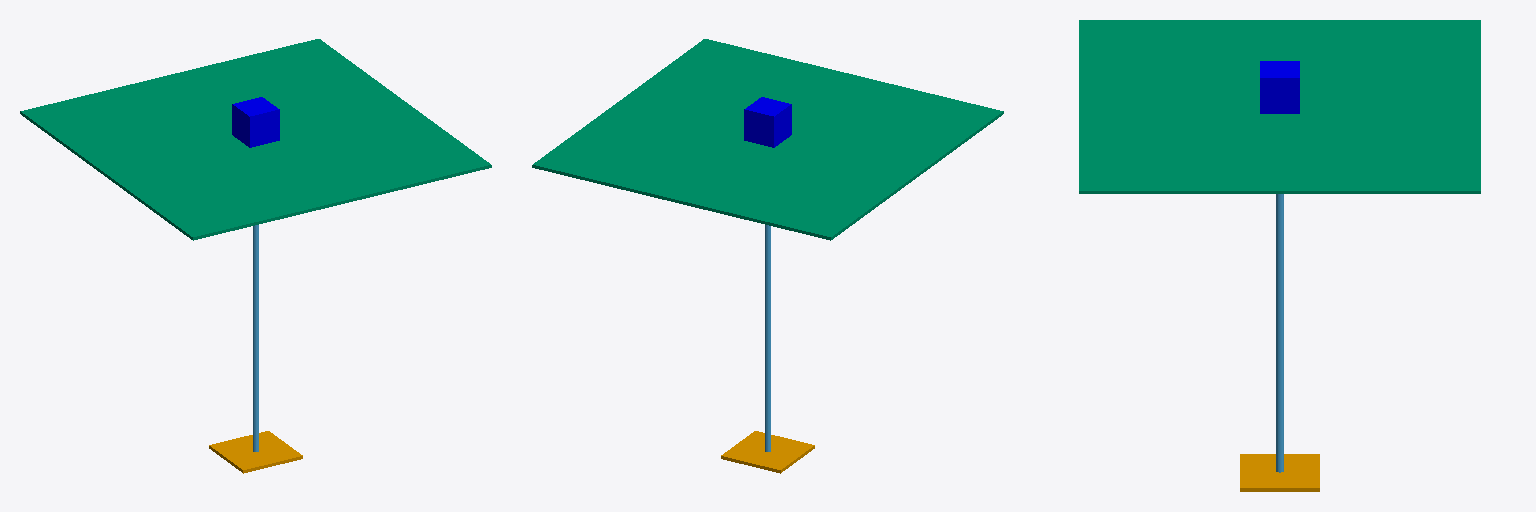
robot.urdf — CartTable:
<?xml version="1.0"?>

<robot xmlns="http://drake.mit.edu"
 xmlns:xsi="http://www.w3.org/2001/XMLSchema-instance"
 xsi:schemaLocation="http://drake.mit.edu ../../doc/drakeURDF.xsd" name="CartTable">
  <material name="blue">
    <color rgba="0 0 1 1" />
  </material>

  <link name="base">
    <inertial>
      <origin xyz="0 0 0" />
      <mass value="1" />
      <inertia ixx="1" iyy="1" izz="1" ixy="0" ixz="0" iyz="0"/>
    </inertial>
    <visual>
      <origin xyz="0 0 0" />
      <geometry>
        <box size=".2 .2 .01" />
      </geometry> 
    </visual>
    <collision>
      <origin xyz="0 0 0" />
      <geometry>
        <box size=".2 .2 .01" />
      </geometry>
    </collision>
  </link>
  <link name="base_part2">
    <!-- no inertia -->
    <visual>
      <origin xyz="0 0 .5" />
      <geometry>
        <cylinder radius=".01" length="1" />
      </geometry>
    </visual>
  </link>
  <joint name="base_weld" type="fixed">
    <parent link="base" />
    <child link="base_part2" />
    <origin xyz="0 0 0" />
  </joint>
  <link name="base_part3">
    <!-- no inertia -->
    <visual>
      <origin xyz="0 0 1" />
      <geometry>
         <box size="1 1 .01" />
      </geometry>
    </visual>
  </link> 
  <joint name="base_weld2" type="fixed">
    <parent link="base_part2" />
    <child link="base_part3" />
    <origin xyz="0 0 0" />
  </joint>


  <link name="cart_x_link" />
  <joint name="cart_x" type="prismatic">
    <parent link="base" />
    <child link="cart_x_link" />
    <axis xyz="1 0 0" />
    <origin xyz="0 0 1.055" />
  </joint>
  <transmission type="SimpleTransmission" name="cart_x_trans">
    <actuator name="cart_xddot" />
    <joint name="cart_x" />
    <mechanicalReduction>.02</mechanicalReduction>
  </transmission>


  <link name="cart">
    <inertial>
      <origin xyz="0 0 0" />
      <mass value="50" />
      <inertia ixx="10" iyy="10" izz="1" ixy="0" ixz="0" iyz="0"/>
      <!-- inertia about COM is zero -->
    </inertial>
    <visual>
      <origin xyz="0 0 0" />
      <geometry>
        <box size=".1 .1 .1" />
      </geometry>
      <material name="blue" />
    </visual>
  </link>
  <joint name="cart_y" type="prismatic">
    <parent link="cart_x_link" />
    <child link="cart" />
    <axis xyz="0 1 0" />
    <origin xyz="0 0 0" />
  </joint>
  <transmission type="SimpleTransmission" name="cart_y_trans">
    <actuator name="cart_yddot" />
    <joint name="cart_y" />
    <mechanicalReduction>.02</mechanicalReduction>
  </transmission>

</robot>

--- Facts derived from the render (not from the file) ---
Views: 3 orthographic renders of the robot side by side, from view 1: azimuth 30°, elevation 25°; view 2: azimuth 150°, elevation 25°; view 3: azimuth 270°, elevation 25°.
Robot: CartTable — 5 links, 4 joints (2 prismatic, 2 fixed); root link base; default pose: all joints at 0.
Links seen in each view (by area): view 1: base_part3, base, cart, base_part2; view 2: base_part3, base, cart, base_part2; view 3: base_part3, base, base_part2, cart.
Link boxes in pixels (x1=…): base_part3: x1=20, y1=39, x2=491, y2=240; base: x1=209, y1=431, x2=302, y2=473; cart: x1=232, y1=97, x2=279, y2=147; base_part2: x1=253, y1=225, x2=258, y2=451; base_part3: x1=532, y1=39, x2=1003, y2=240; base: x1=721, y1=431, x2=814, y2=473; cart: x1=744, y1=97, x2=791, y2=147; base_part2: x1=765, y1=225, x2=770, y2=451; base_part3: x1=1079, y1=20, x2=1480, y2=193; base: x1=1240, y1=454, x2=1319, y2=491; base_part2: x1=1276, y1=194, x2=1283, y2=472; cart: x1=1260, y1=61, x2=1299, y2=113.
Bounding box of the posed robot: 1 × 1 × 1.11 m (x, y, z).
Geometry: primitives only (box / cylinder / sphere), no mesh files.